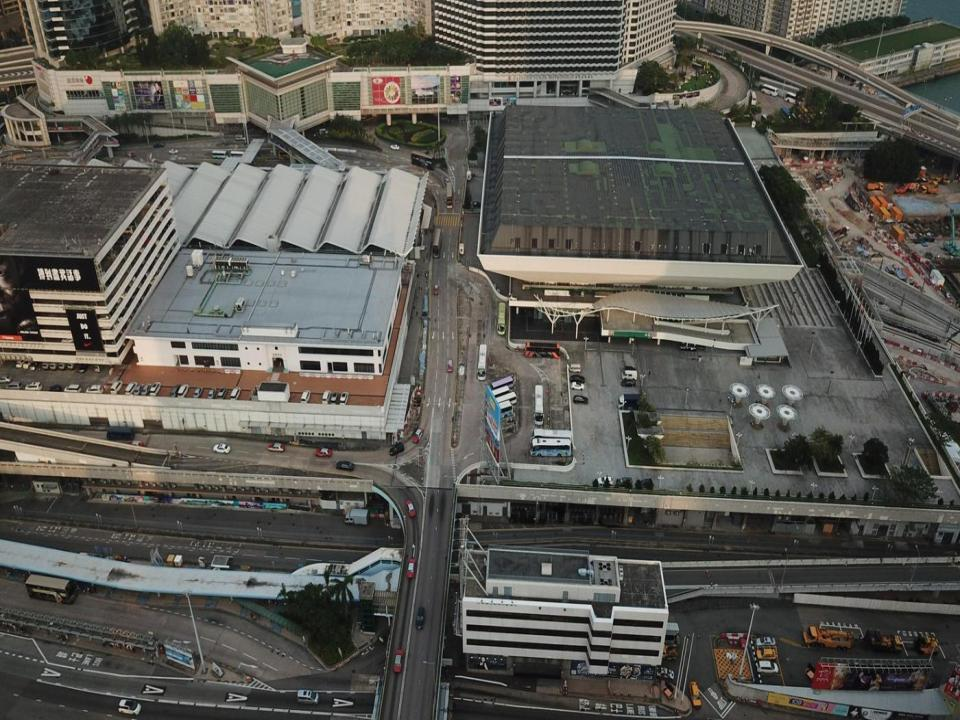bus: (25, 574, 76, 603), (530, 429, 571, 450), (530, 438, 571, 457), (525, 342, 560, 358), (485, 400, 513, 420), (411, 151, 435, 170), (534, 385, 545, 425), (489, 392, 516, 408), (106, 426, 134, 441), (486, 385, 509, 403), (490, 376, 513, 393), (278, 148, 304, 161), (477, 344, 486, 380), (784, 91, 804, 107), (432, 229, 442, 258), (497, 302, 506, 334), (780, 107, 793, 125), (760, 84, 778, 95), (761, 113, 773, 127), (446, 182, 452, 208), (212, 150, 228, 159), (230, 151, 245, 160), (749, 90, 757, 106)
car: (655, 666, 674, 681), (393, 648, 404, 672), (755, 636, 776, 647), (388, 443, 404, 457), (336, 461, 355, 472), (406, 558, 416, 578), (117, 225, 135, 236), (412, 429, 425, 444), (78, 357, 90, 373), (405, 500, 416, 517), (315, 447, 332, 458), (213, 443, 230, 454), (597, 476, 614, 486), (23, 354, 35, 368), (192, 386, 204, 399), (145, 192, 157, 205), (169, 384, 180, 398), (268, 443, 285, 452), (570, 374, 585, 384), (128, 441, 144, 450), (16, 354, 26, 368), (92, 268, 106, 278), (60, 336, 77, 344), (47, 384, 62, 393), (29, 355, 38, 370), (141, 383, 152, 395), (133, 384, 145, 395), (446, 358, 454, 373), (621, 380, 636, 388), (206, 388, 216, 400), (571, 381, 584, 390), (0, 374, 12, 382), (389, 143, 400, 150), (110, 145, 119, 151), (154, 141, 163, 147), (126, 152, 136, 157), (434, 284, 438, 295), (24, 148, 32, 153), (169, 149, 178, 153)
truck: (803, 623, 854, 651), (864, 629, 902, 654), (344, 509, 368, 526), (657, 643, 678, 661), (618, 394, 642, 409), (828, 225, 850, 240), (845, 192, 860, 211), (920, 184, 938, 194), (866, 182, 883, 190), (936, 174, 947, 184)
van: (118, 699, 141, 715), (689, 681, 702, 708), (297, 689, 319, 704), (757, 660, 778, 675), (756, 647, 775, 662), (102, 248, 118, 262), (42, 349, 52, 370), (49, 350, 60, 369), (416, 605, 424, 630), (93, 354, 104, 372), (125, 381, 138, 396), (615, 477, 632, 488), (25, 381, 42, 392), (176, 384, 189, 398), (622, 369, 637, 381), (110, 380, 122, 395), (137, 198, 152, 210), (635, 479, 651, 490), (67, 351, 76, 370), (86, 384, 103, 394), (64, 384, 81, 394), (5, 381, 22, 391), (149, 382, 161, 396), (57, 352, 66, 370), (98, 326, 114, 336), (624, 364, 636, 377), (300, 390, 311, 404), (229, 387, 240, 401), (216, 388, 228, 400), (322, 389, 330, 406), (573, 395, 588, 404), (330, 392, 339, 406), (340, 391, 348, 406), (96, 314, 110, 322), (235, 134, 246, 140), (320, 128, 329, 134), (445, 178, 449, 186)
